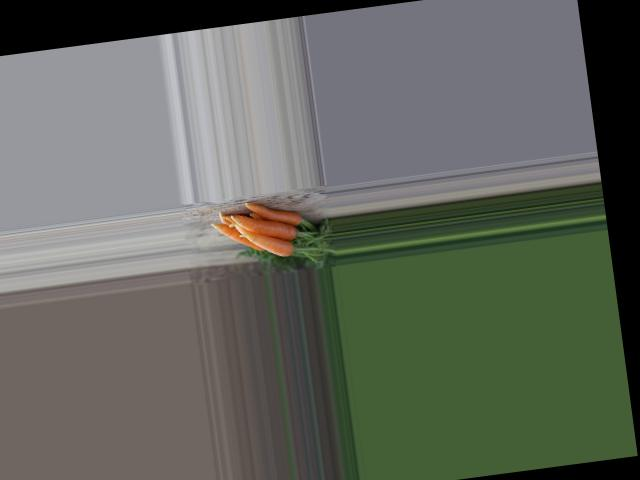carrot: (242, 199, 309, 230)
